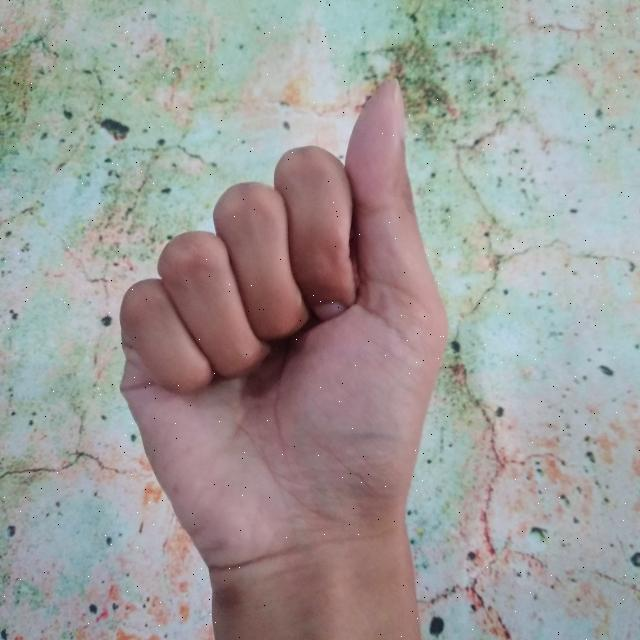A: (110, 69, 459, 640)
